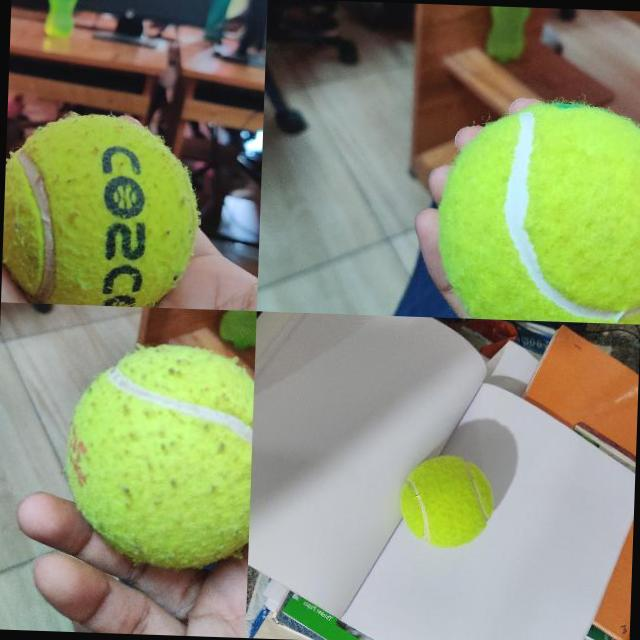Tennis Ball: (434, 98, 640, 323), (62, 342, 255, 570), (1, 110, 202, 308), (398, 453, 494, 549)
